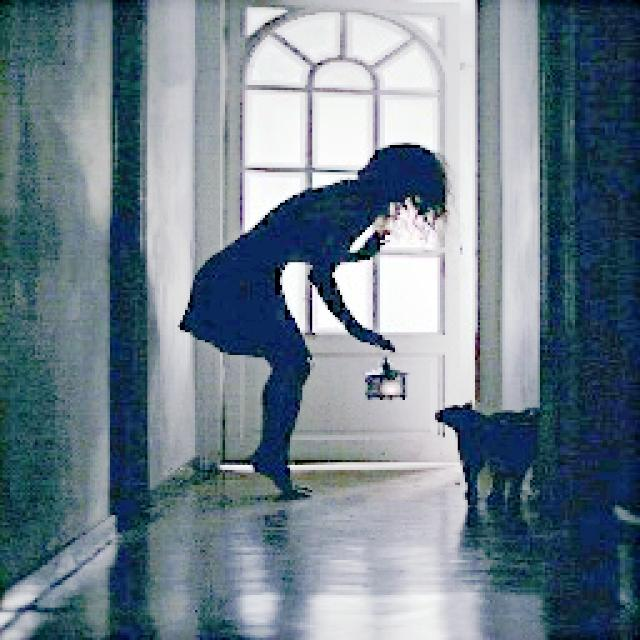cat: (426, 390, 544, 516)
